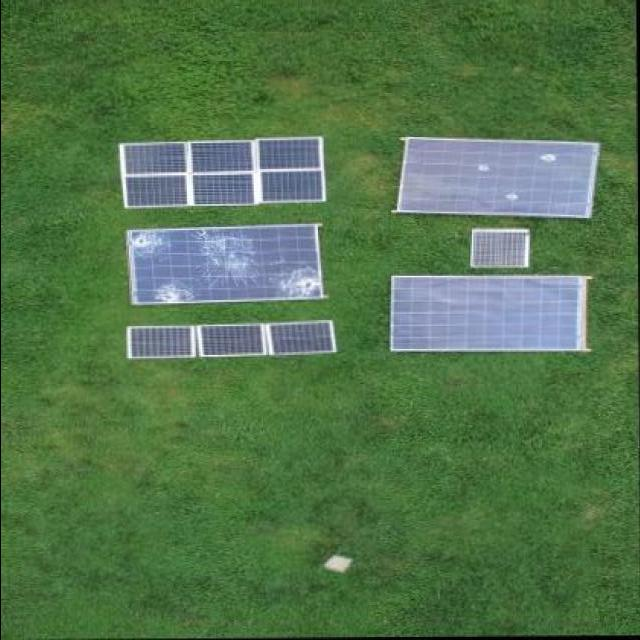cracked: (124, 227, 328, 305)
soiled: (394, 140, 600, 218)
